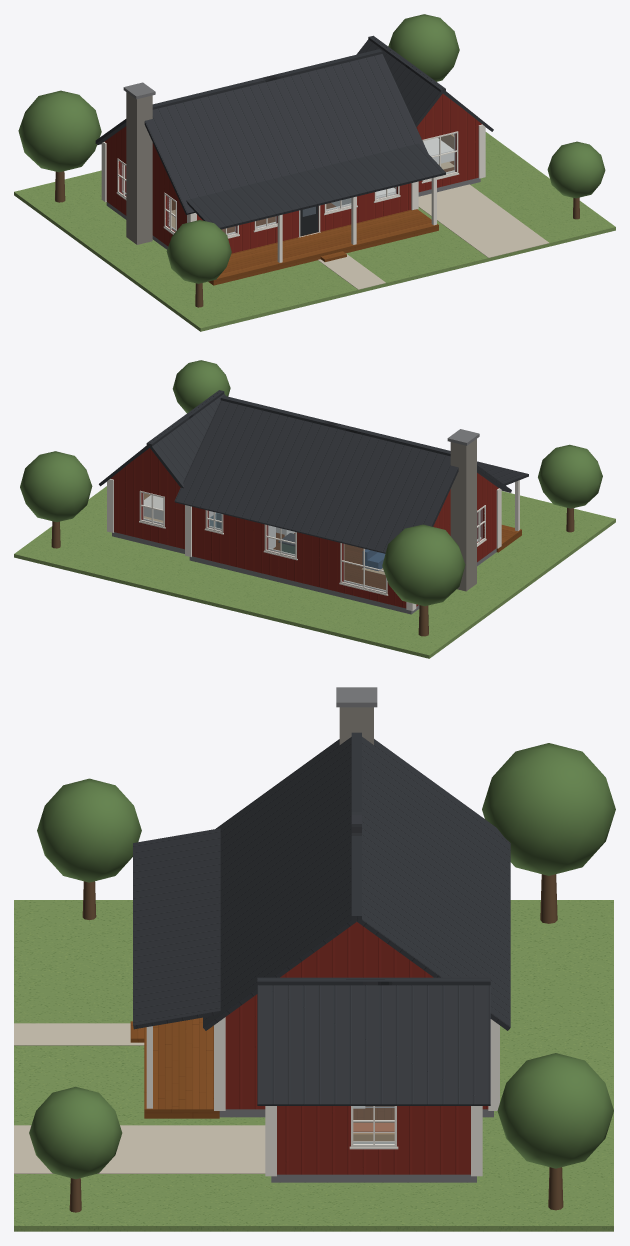
Rendered from farmhouse-red.glb.
The picture shows the model from 3 angles, top to bottom: view 1: azimuth 30°, elevation 25°; view 2: azimuth 150°, elevation 25°; view 3: azimuth 270°, elevation 25°; orthographic projection. The views are drawn at different scales.
Visible parts, largest first — view 1: roof-roof, lawn, leaves, siding, deck, gravel, stone, roof-siding, trim, glass, frame, foundation (+3 smaller); view 2: roof-roof, lawn, leaves, siding, stone, glass, roof-siding, foundation, frame, trim, wood, trunk; view 3: roof-roof, lawn, leaves, siding, gravel, deck, roof-siding, trim, foundation, trunk, glass, stone.
Part boxes in pixels (x1,y1,x2,y2): roof-roof: (95, 35, 493, 229); lawn: (14, 132, 615, 331); leaves: (18, 14, 605, 283); siding: (106, 125, 478, 253); deck: (208, 209, 438, 285); gravel: (318, 184, 549, 289); stone: (126, 92, 152, 244); roof-siding: (104, 94, 481, 194); trim: (101, 124, 485, 262); glass: (120, 133, 455, 235); frame: (117, 131, 458, 237); foundation: (106, 82, 480, 249); roof-roof: (99, 390, 528, 553); lawn: (14, 486, 615, 658); leaves: (20, 360, 602, 606); siding: (114, 480, 496, 608); stone: (450, 439, 476, 591); glass: (142, 493, 482, 591); roof-siding: (110, 448, 498, 529); foundation: (112, 429, 496, 614); frame: (139, 490, 485, 594); trim: (107, 479, 519, 610); wood: (273, 532, 385, 589); trunk: (51, 508, 574, 636); roof-roof: (133, 732, 510, 1105); lawn: (14, 900, 613, 1231); leaves: (29, 743, 615, 1179); siding: (225, 1016, 488, 1174); gravel: (14, 1023, 265, 1173); deck: (130, 1017, 219, 1118); roof-siding: (227, 922, 433, 1016); trim: (146, 1017, 499, 1176); foundation: (219, 687, 493, 1182); trunk: (69, 874, 563, 1212); glass: (353, 1106, 394, 1143); stone: (339, 707, 373, 744).
Size of the model in its own units: 0.4691 by 0.1586 by 0.3511.
Materials: 34 (8 with a texture image).
